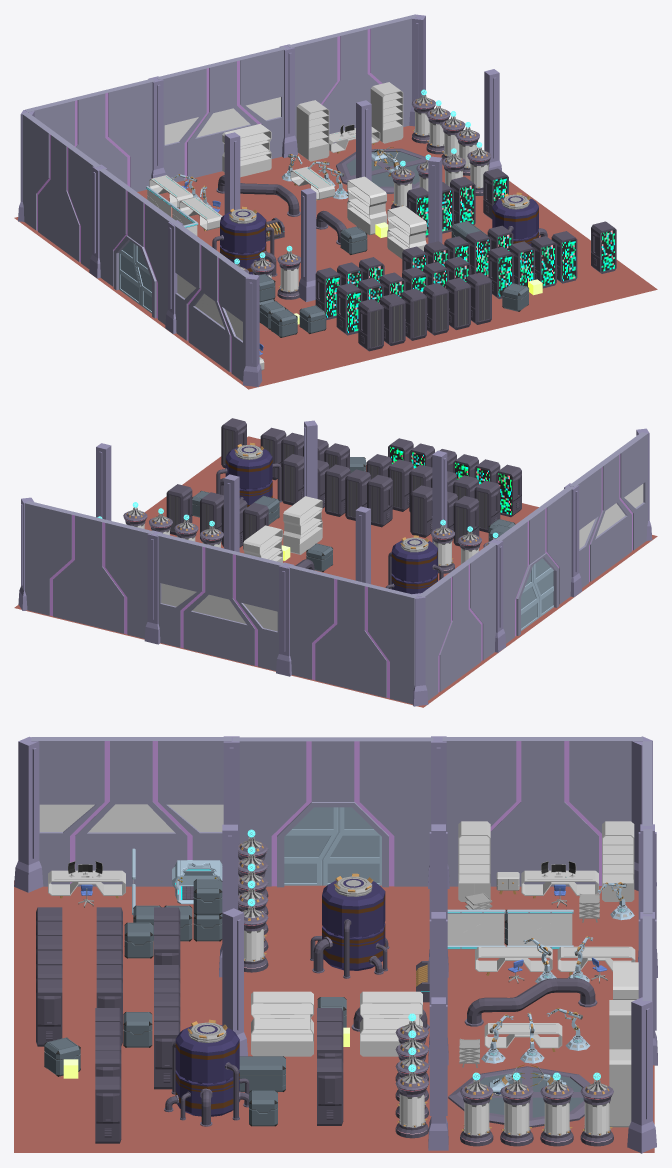
The model's file is level02.fbx.
The picture shows the model from 3 angles, top to bottom: view 1: azimuth 30°, elevation 25°; view 2: azimuth 150°, elevation 25°; view 3: azimuth 270°, elevation 25°; orthographic projection. The views are drawn at different scales.
Visible parts, largest first — view 1: Plane.005, wallwindow.003, wall.003, wallwindow.001, wall.011, wall.008, walldor.001, Icosphere.006, Cylinder.016, Icosphere.005, Plane.002, Cylinder.014 (+45 smaller); view 2: wall.011, wall.003, wallwindow.003, Plane.005, wall.008, wallwindow.001, walldor.001, Cylinder.014, Cylinder.016, Cube.081, door.001, Icosphere.005 (+37 smaller); view 3: Plane.005, wallwindow.001, wall.008, walldor.001, Icosphere.006, door.001, Cylinder.014, Cylinder.016, Cube.081, Icosphere.005, Icosphere.004, Cube.043 (+45 smaller).
Boxes of the visible parts, x1,y1,x2,y2 form: Plane.005: (14, 125, 657, 389); wallwindow.003: (157, 46, 286, 182); wall.003: (287, 15, 417, 143); wallwindow.001: (173, 222, 251, 381); wall.011: (25, 78, 154, 191); wall.008: (22, 112, 100, 269); walldor.001: (99, 168, 177, 324); Icosphere.006: (411, 89, 479, 175); Cylinder.016: (212, 206, 277, 276); Icosphere.005: (391, 142, 491, 208); Plane.002: (336, 147, 428, 193); Cylinder.014: (492, 192, 547, 245); wall.011: (287, 565, 417, 704); wall.003: (25, 501, 154, 638); wallwindow.003: (156, 533, 285, 670); Plane.005: (14, 436, 657, 707); wall.008: (418, 542, 496, 700); wallwindow.001: (569, 432, 647, 587); walldor.001: (495, 486, 573, 643); Cylinder.014: (216, 442, 281, 506); Cylinder.016: (385, 535, 443, 594); Cube.081: (283, 496, 322, 554); door.001: (521, 558, 553, 630); Icosphere.005: (123, 502, 223, 547); Plane.005: (14, 880, 654, 1152); wallwindow.001: (31, 737, 231, 886); wall.008: (442, 737, 642, 886); walldor.001: (233, 737, 433, 887); Icosphere.006: (460, 1072, 613, 1146); door.001: (284, 807, 381, 885); Cylinder.014: (164, 1019, 249, 1126); Cylinder.016: (310, 873, 389, 978); Cube.081: (251, 991, 313, 1056); Icosphere.005: (395, 1013, 428, 1138); Icosphere.004: (238, 829, 268, 972); Cube.043: (627, 997, 656, 1153).
Size of the model in its own units: 8785 by 2248 by 8743.
